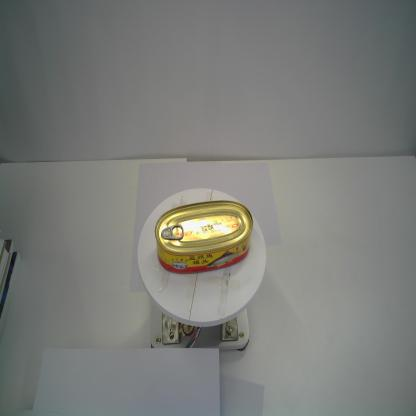Canned Food: (154, 198, 254, 275)
